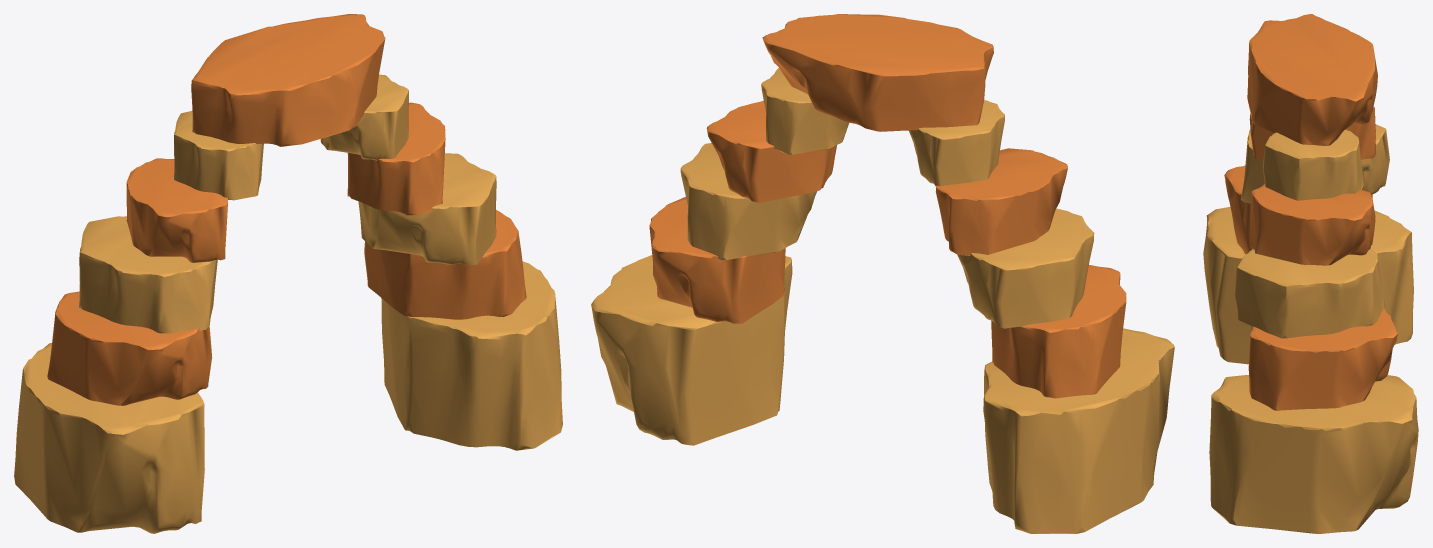
File: SlidingObs.fbx
The picture shows the model from 3 angles, left to right: view 1: azimuth 30°, elevation 25°; view 2: azimuth 150°, elevation 25°; view 3: azimuth 270°, elevation 25°; orthographic projection. The views are drawn at different scales.
Parts seen in each view (by area): view 1: Empty; view 2: Empty; view 3: Empty.
Boxes of the visible parts, bbox=[...] form: Empty: bbox=[14, 14, 562, 533]; Empty: bbox=[591, 14, 1174, 533]; Empty: bbox=[1203, 14, 1418, 533].
Size of what is drawn, in the model's own units: 1.49 by 1.12 by 0.5944.
